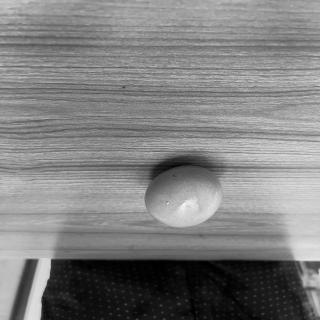Telur: (144, 163, 227, 231)
